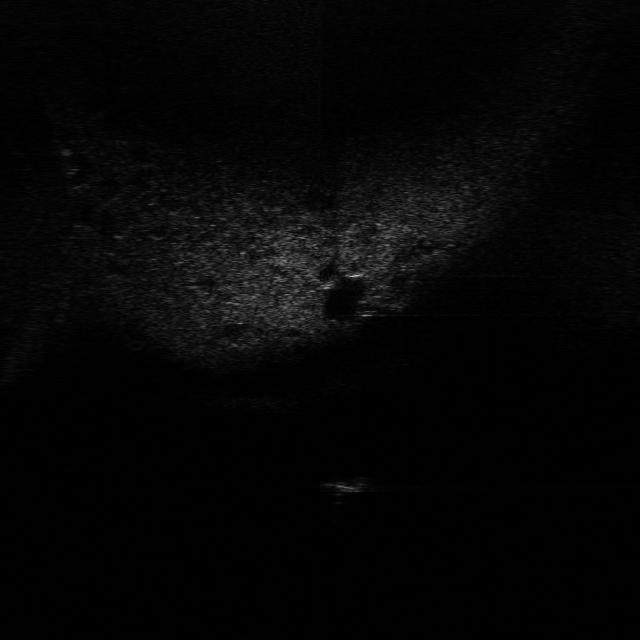cube: (316, 471, 370, 495)
